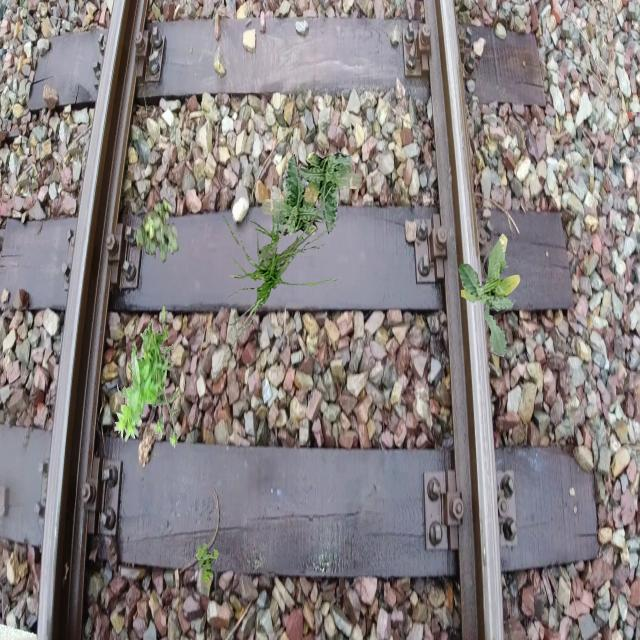Plant: (221, 185, 339, 348), (114, 306, 178, 449), (458, 233, 520, 358), (261, 154, 324, 237), (299, 152, 362, 235), (136, 197, 180, 264), (195, 542, 219, 583)
